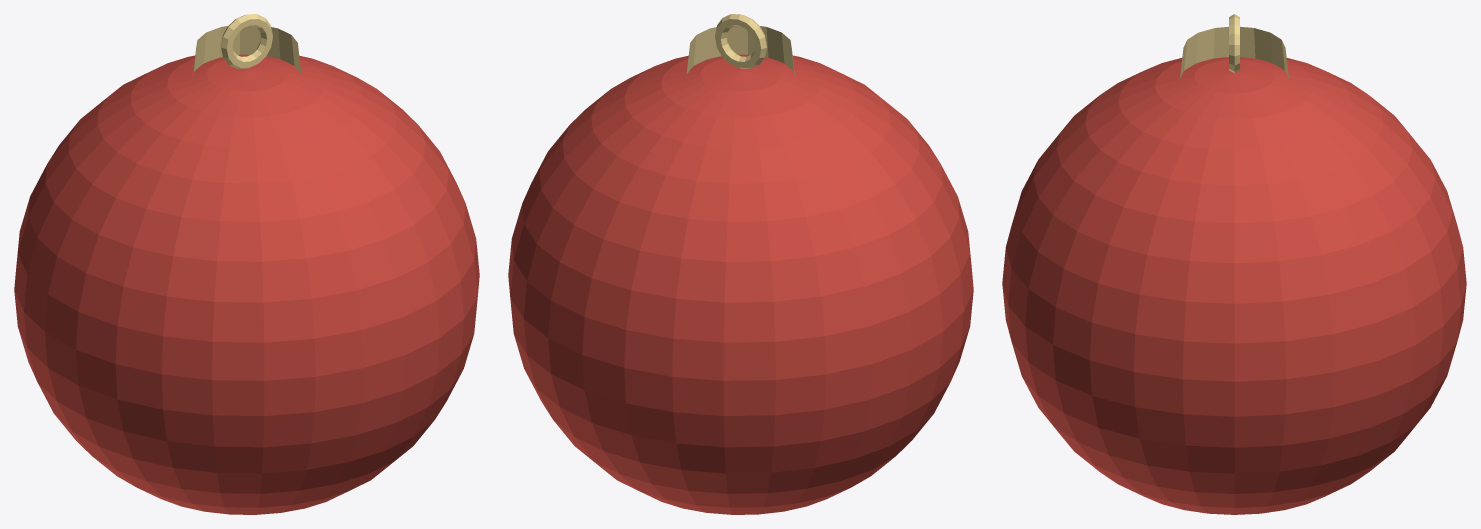
Rendered from bauble-red-4in.glb.
The picture shows the model from 3 angles, left to right: view 1: azimuth 30°, elevation 25°; view 2: azimuth 150°, elevation 25°; view 3: azimuth 270°, elevation 25°; orthographic projection.
Parts seen in each view (by area): view 1: bauble; view 2: bauble; view 3: bauble.
Boxes of the visible parts, left/top/right/bottom form: bauble: left=14, top=14, right=479, bottom=514; bauble: left=508, top=14, right=973, bottom=514; bauble: left=1002, top=14, right=1466, bottom=514.
Size of the model in its own units: 0.0896 by 0.1016 by 0.0896.
